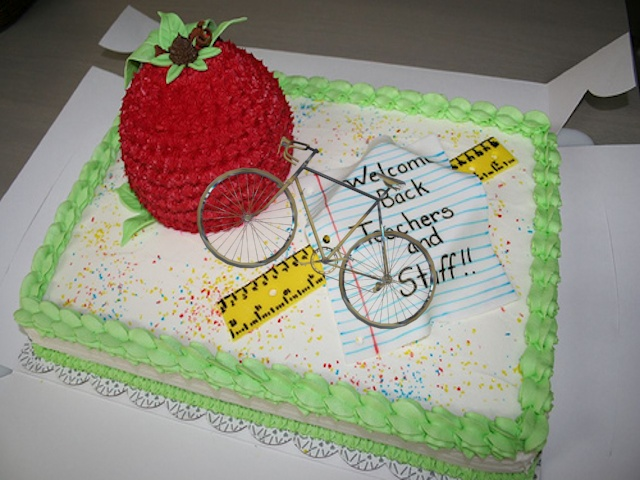bike: (192, 128, 448, 337)
